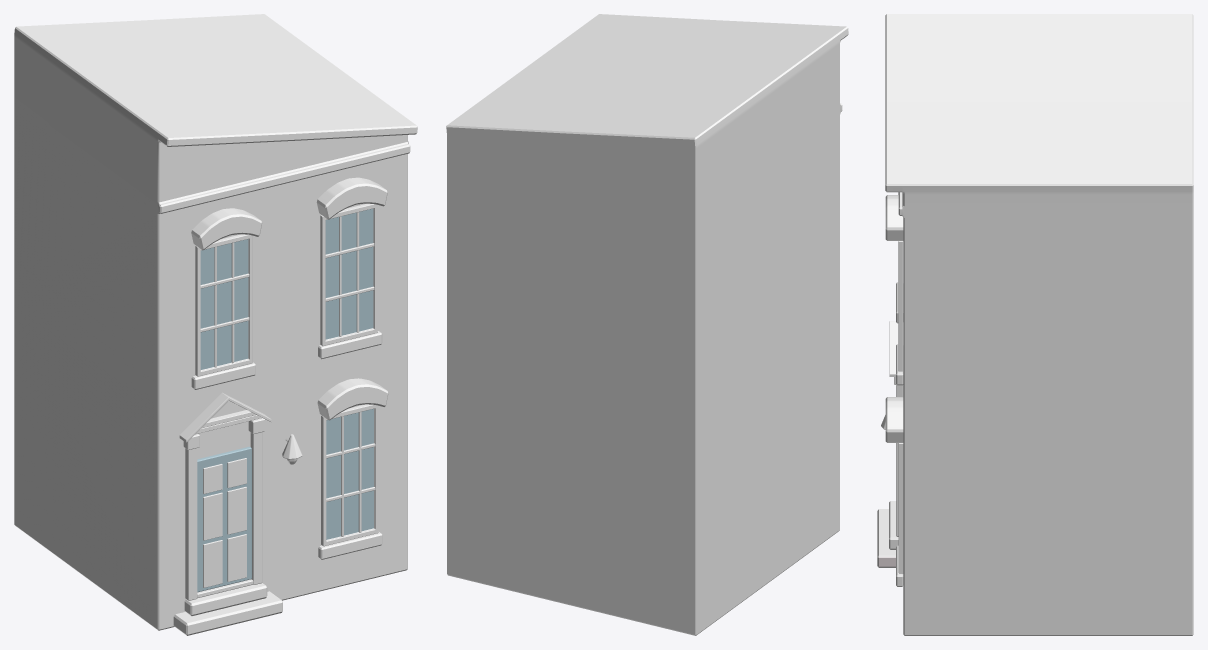
Rendered from TimHouse1-UV.fbx.
3 views of the same model, side by side, from view 1: azimuth 30°, elevation 25°; view 2: azimuth 150°, elevation 25°; view 3: azimuth 270°, elevation 25° (orthographic).
Parts seen in each view (by area): view 1: polySurface162; view 2: polySurface162; view 3: polySurface162.
Part boxes in pixels (x1,y1,x2,y2): polySurface162: [14, 14, 417, 635]; polySurface162: [446, 14, 848, 635]; polySurface162: [877, 14, 1193, 635].
Size of the model in its own units: 1.01 by 1.91 by 1.1.
Materials: 1 (1 with a texture image).
